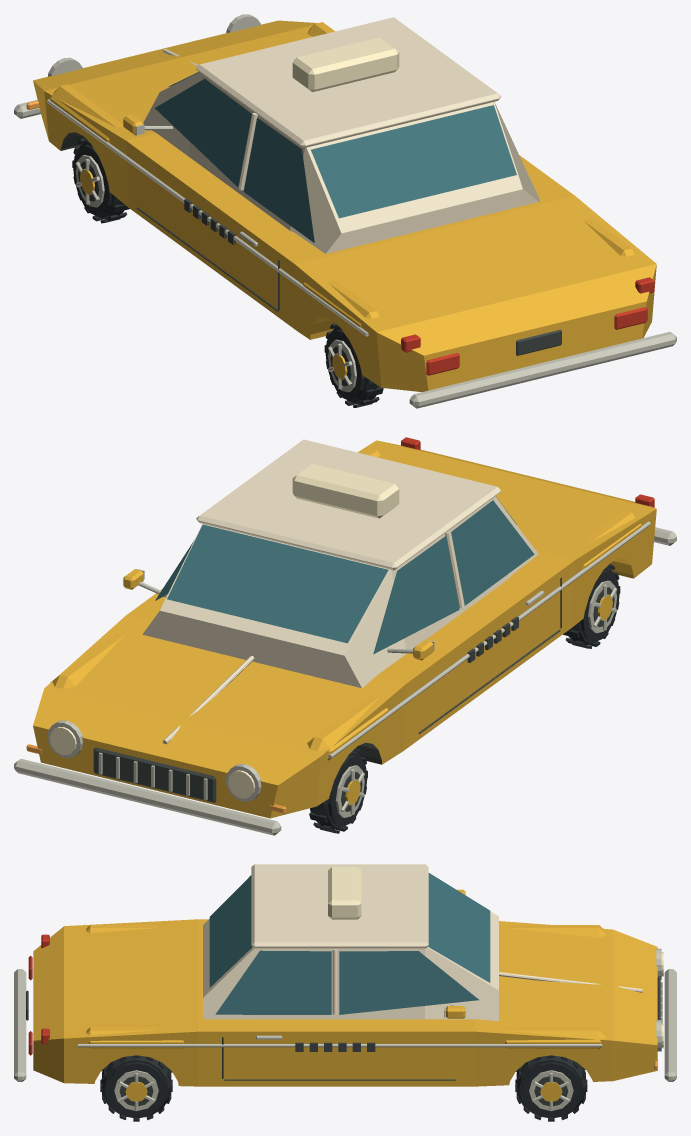
The model's file is taxi_detail.glb.
3 views of the same model, one above another, from view 1: azimuth 30°, elevation 25°; view 2: azimuth 150°, elevation 25°; view 3: azimuth 270°, elevation 25° (orthographic). The views are drawn at different scales.
Visible parts, largest first — view 1: TaxiModel Copper enamel, TaxiModel Warm cream, TaxiModel Teal canopy, TaxiModel Warm alloy, TaxiModel Ivory lamp, TaxiModel Dark grille, TaxiModel Red lamp, Spin.001 Rubber charcoal, Spin Rubber charcoal, Spin Warm alloy, Spin.001 Warm alloy; view 2: TaxiModel Copper enamel, TaxiModel Warm cream, TaxiModel Teal canopy, TaxiModel Warm alloy, TaxiModel Ivory lamp, TaxiModel Dark grille, Spin Rubber charcoal, Spin.001 Rubber charcoal, Spin.001 Warm alloy, Spin Warm alloy; view 3: TaxiModel Copper enamel, TaxiModel Warm cream, TaxiModel Teal canopy, TaxiModel Warm alloy, Spin.003 Rubber charcoal, Spin.002 Rubber charcoal, TaxiModel Ivory lamp, TaxiModel Dark grille, Spin.003 Warm alloy, Spin.002 Warm alloy, TaxiModel Red lamp.
Part boxes in pixels (x1,y1,x2,y2): TaxiModel Copper enamel: (33, 20, 656, 391); TaxiModel Warm cream: (143, 17, 539, 253); TaxiModel Teal canopy: (155, 72, 516, 242); TaxiModel Warm alloy: (14, 14, 676, 408); TaxiModel Ivory lamp: (292, 37, 399, 92); TaxiModel Dark grille: (136, 199, 561, 355); TaxiModel Red lamp: (401, 277, 654, 375); Spin.001 Rubber charcoal: (324, 323, 383, 407); Spin Rubber charcoal: (72, 137, 129, 223); Spin Warm alloy: (75, 155, 104, 207); Spin.001 Warm alloy: (328, 339, 356, 392); TaxiModel Copper enamel: (33, 440, 656, 818); TaxiModel Warm cream: (142, 439, 538, 744); TaxiModel Teal canopy: (155, 497, 534, 654); TaxiModel Warm alloy: (14, 521, 676, 835); TaxiModel Ivory lamp: (49, 463, 399, 798); TaxiModel Dark grille: (93, 577, 561, 802); Spin Rubber charcoal: (309, 748, 367, 833); Spin.001 Rubber charcoal: (563, 564, 620, 648); Spin.001 Warm alloy: (588, 580, 617, 633); Spin Warm alloy: (335, 765, 364, 817); TaxiModel Copper enamel: (33, 889, 657, 1086); TaxiModel Warm cream: (203, 864, 642, 1020); TaxiModel Teal canopy: (209, 873, 490, 1014); TaxiModel Warm alloy: (14, 948, 676, 1081); Spin.003 Rubber charcoal: (100, 1055, 172, 1121); Spin.002 Rubber charcoal: (515, 1055, 587, 1121); TaxiModel Ivory lamp: (328, 867, 663, 1048); TaxiModel Dark grille: (26, 977, 660, 1080); Spin.003 Warm alloy: (114, 1070, 158, 1111); Spin.002 Warm alloy: (529, 1070, 573, 1111); TaxiModel Red lamp: (28, 934, 49, 1055).
Bounding box in the file's own units: 2.05 × 1.48 × 4.75.
